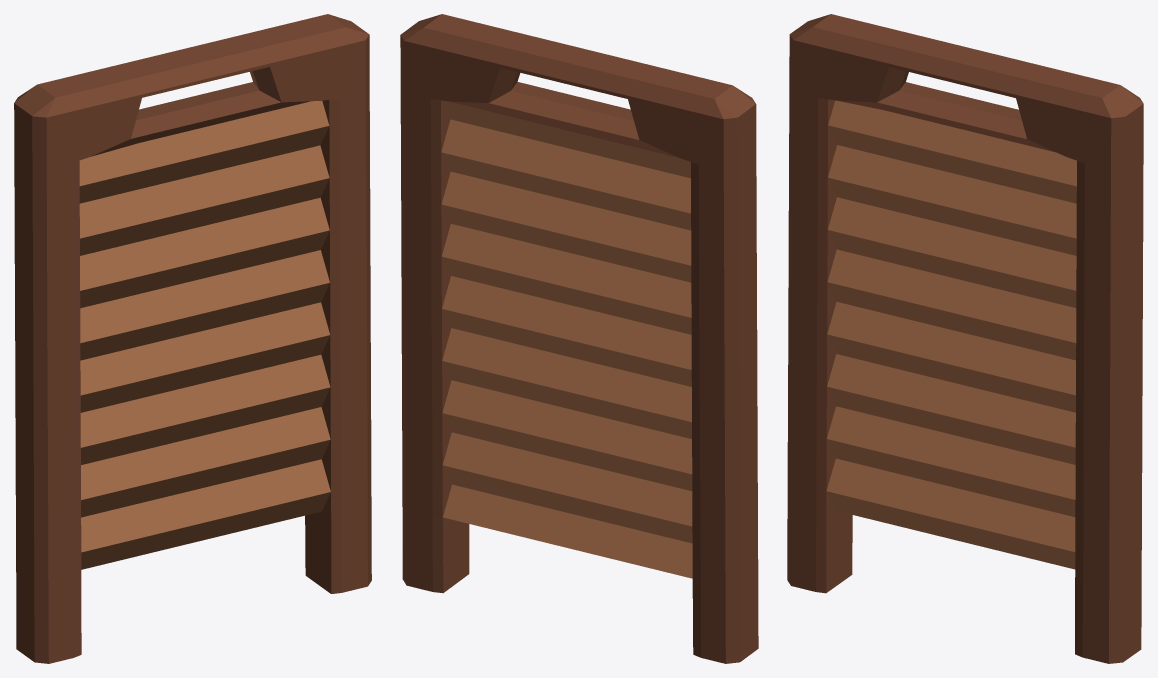
Rendered from washboard.fbx.
The picture shows the model from 3 angles, left to right: view 1: azimuth 30°, elevation 25°; view 2: azimuth 150°, elevation 25°; view 3: azimuth 330°, elevation 25°; orthographic projection.
Visible parts, largest first — view 1: washboard; view 2: washboard; view 3: washboard.
Part boxes in pixels (<box>): washboard: <box>14,14,371,663</box>; washboard: <box>400,14,758,663</box>; washboard: <box>787,14,1143,663</box>.
Bounding box in the file's own units: 32.34 × 51.18 × 5.23.
